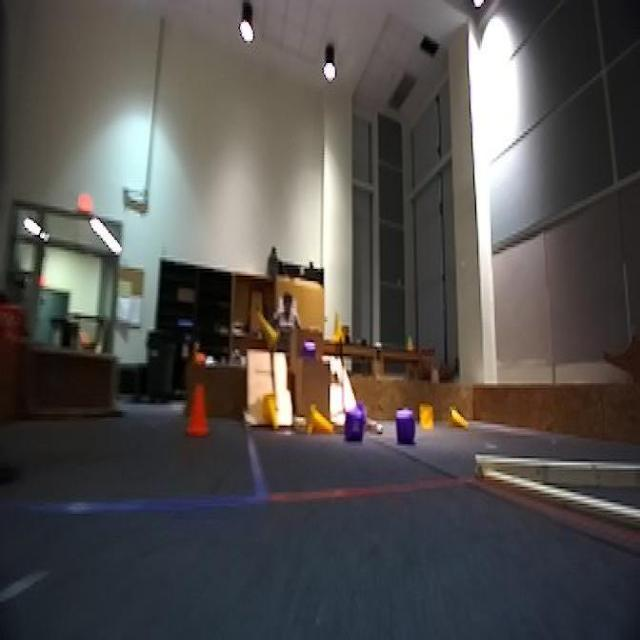frc_cone: (252, 306, 278, 356), (307, 405, 334, 436), (263, 390, 281, 432), (445, 408, 471, 432), (328, 312, 344, 347), (418, 398, 434, 431)
frc_cube: (346, 409, 366, 439), (396, 416, 414, 442), (302, 342, 319, 363)
